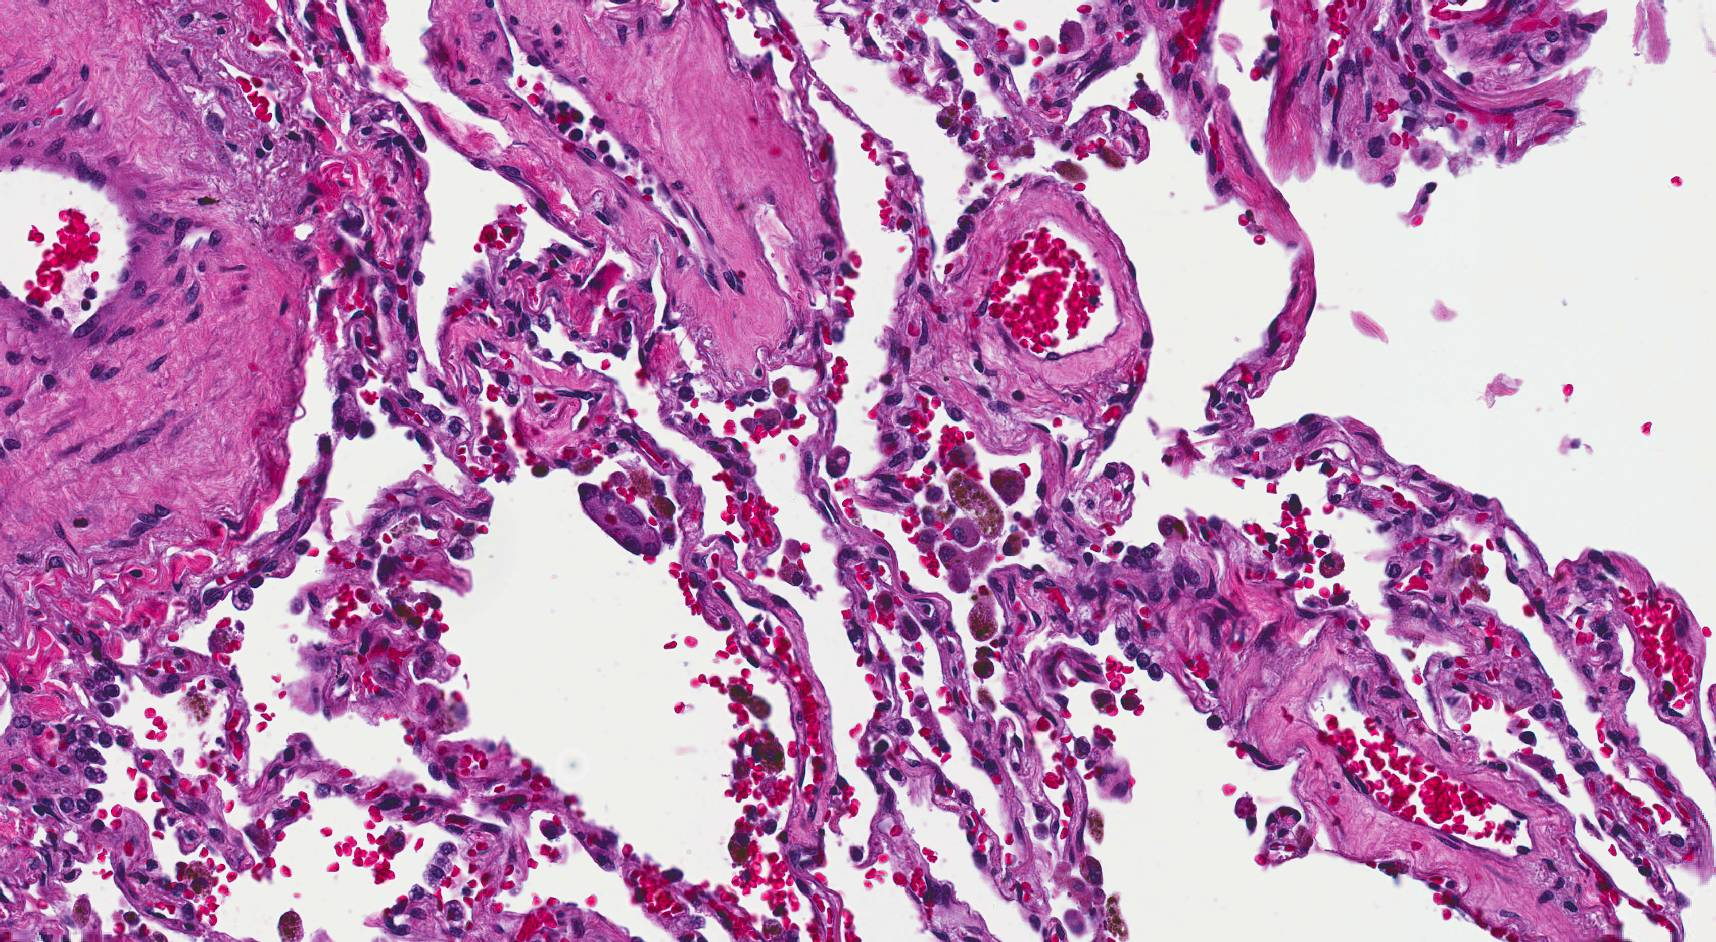stas: (577, 483, 664, 557)
